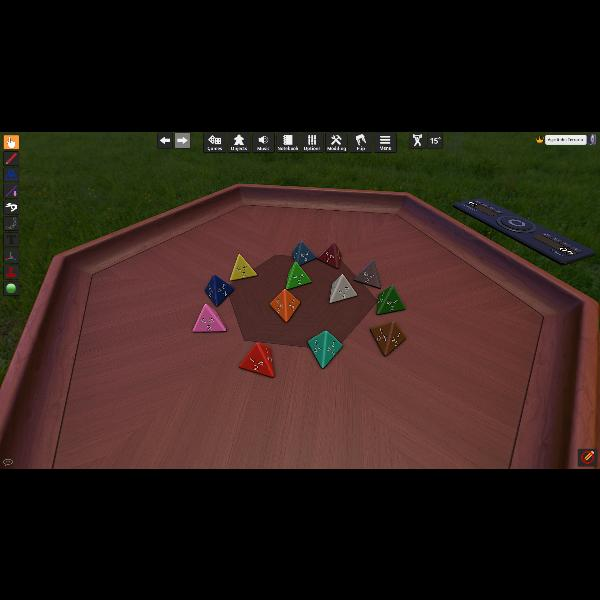d4: (370, 320, 406, 356), (239, 341, 275, 377), (308, 330, 340, 368), (270, 288, 300, 322), (192, 302, 226, 332), (204, 274, 232, 308), (374, 284, 404, 314), (328, 273, 356, 303), (354, 260, 380, 288), (286, 260, 310, 290), (230, 254, 256, 280), (316, 243, 340, 269), (292, 241, 314, 266)
